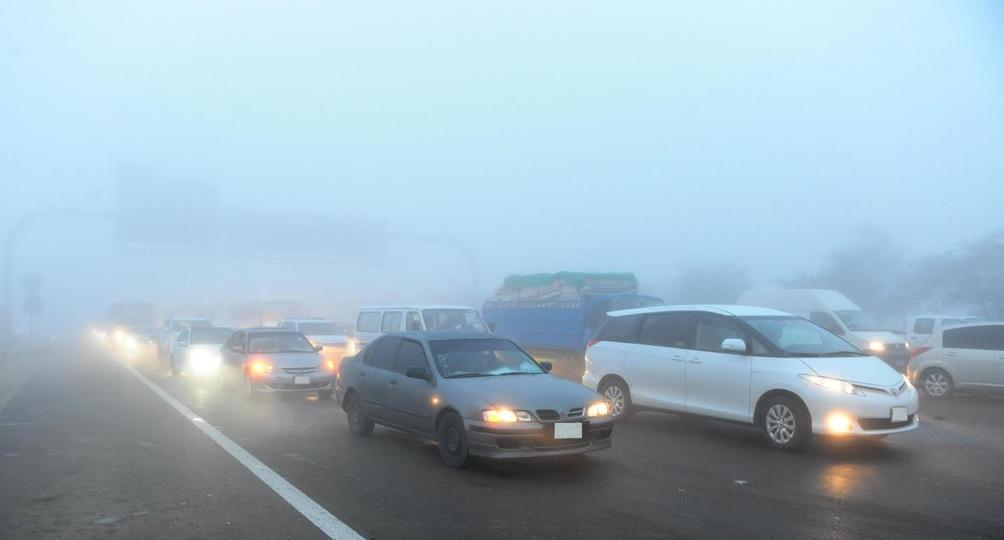bus: (479, 271, 672, 395), (734, 287, 914, 384), (224, 298, 307, 354), (102, 299, 159, 360)
car: (576, 302, 925, 452), (332, 327, 619, 471), (348, 304, 498, 390), (215, 325, 337, 404), (902, 318, 1004, 399), (905, 311, 985, 371), (271, 315, 357, 368), (167, 325, 241, 382), (154, 316, 216, 363)
